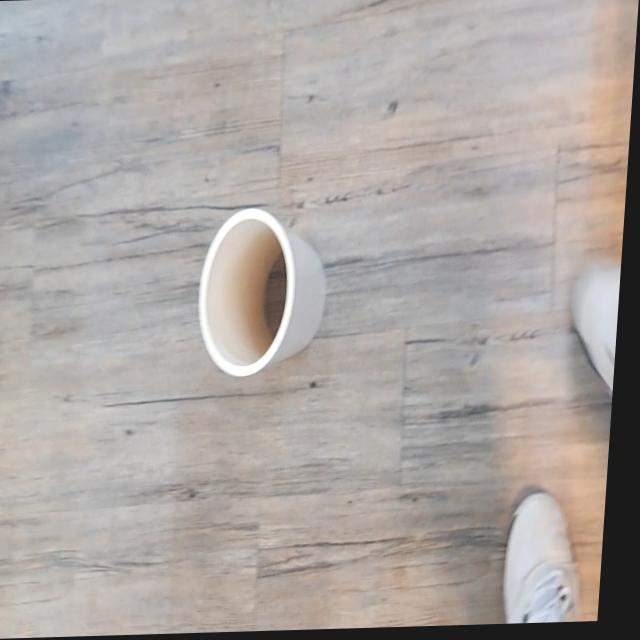CORAL: (174, 175, 350, 396)
